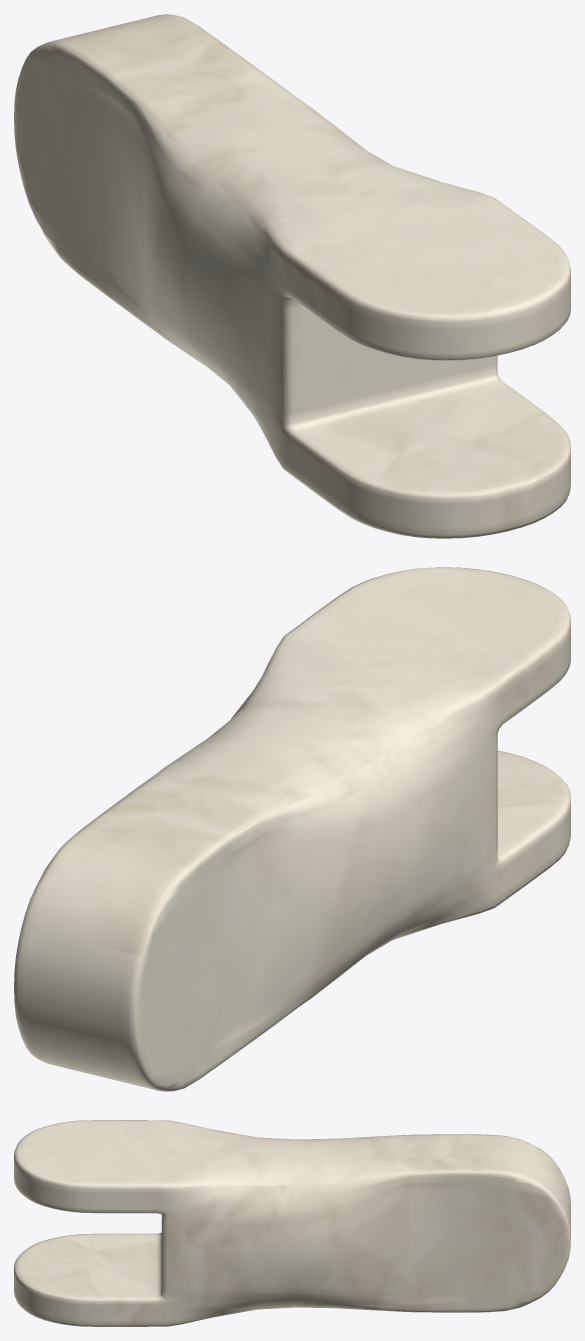
The model's file is PART3 (SUBDIVISION).glb.
3 views of the same model, one above another, from view 1: azimuth 30°, elevation 25°; view 2: azimuth 150°, elevation 25°; view 3: azimuth 270°, elevation 25° (orthographic). The views are drawn at different scales.
Visible parts, largest first — view 1: CANADARM HD.003; view 2: CANADARM HD.003; view 3: CANADARM HD.003.
Part boxes in pixels (left/top/right/bottom): CANADARM HD.003: left=14, top=14, right=570, bottom=538; CANADARM HD.003: left=14, top=567, right=570, bottom=1091; CANADARM HD.003: left=14, top=1120, right=570, bottom=1326.
Bounding box in the file's own units: 0.1268 × 0.1265 × 0.4469.
Materials: 1 (1 with a texture image).
